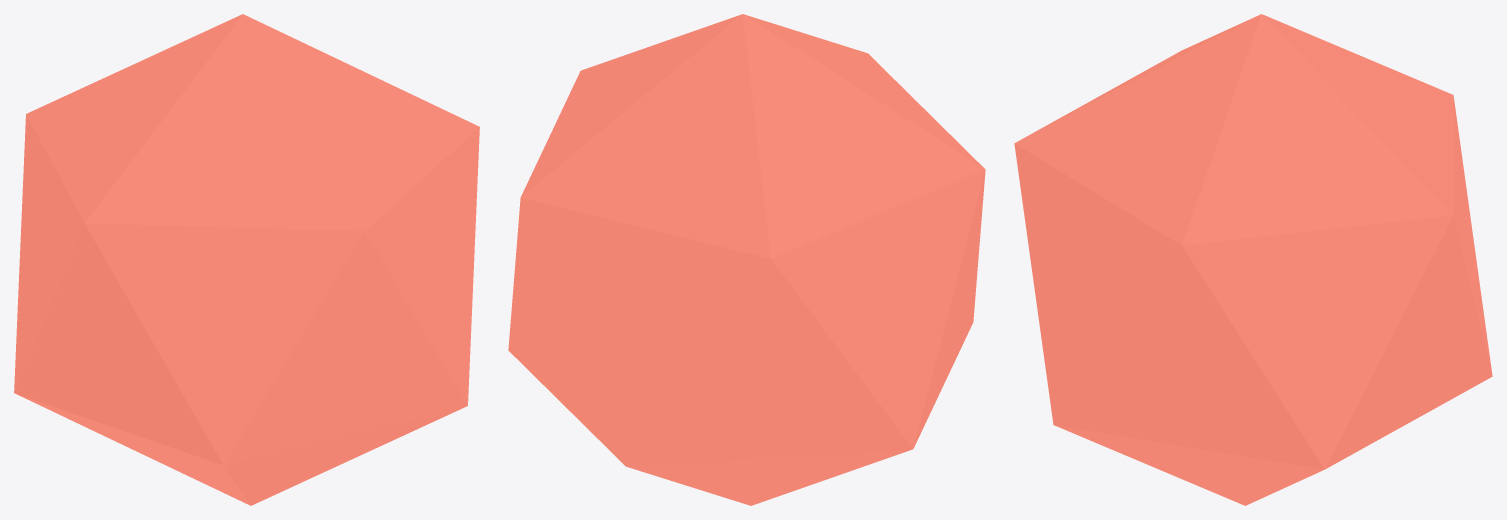
The model's file is diamond4.fbx.
3 views of the same model, side by side, from view 1: azimuth 30°, elevation 25°; view 2: azimuth 150°, elevation 25°; view 3: azimuth 270°, elevation 25° (orthographic). The views are drawn at different scales.
Parts seen in each view (by area): view 1: diamond; view 2: diamond; view 3: diamond.
Boxes of the visible parts, left/top/right/bottom form: diamond: left=14, top=14, right=479, bottom=505; diamond: left=508, top=14, right=985, bottom=505; diamond: left=1014, top=14, right=1492, bottom=505.
Bounding box in the file's own units: 37.43 × 43.98 × 38.75.
